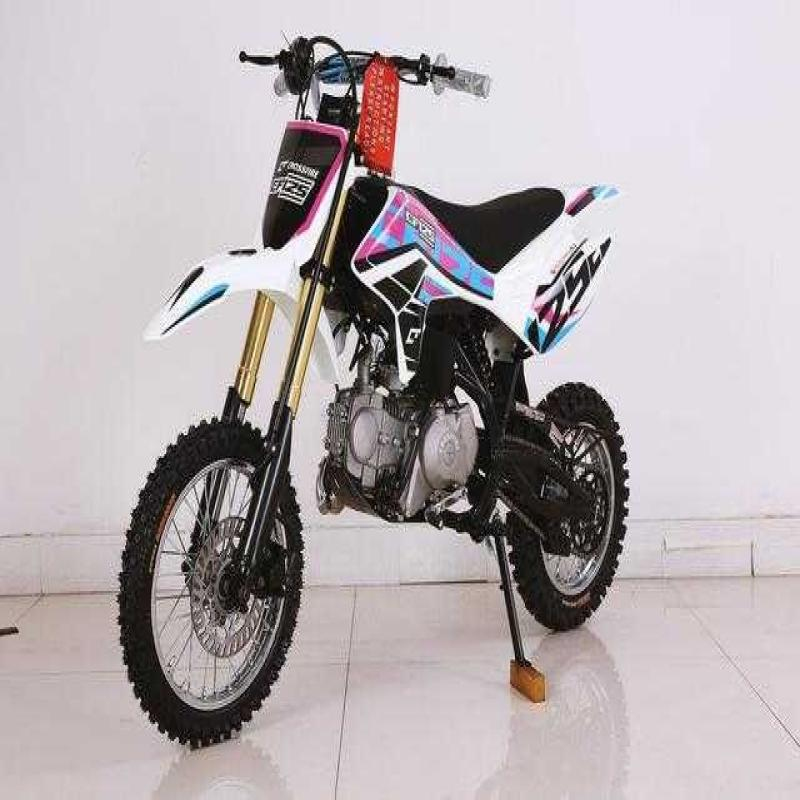bike: (110, 19, 682, 763)
